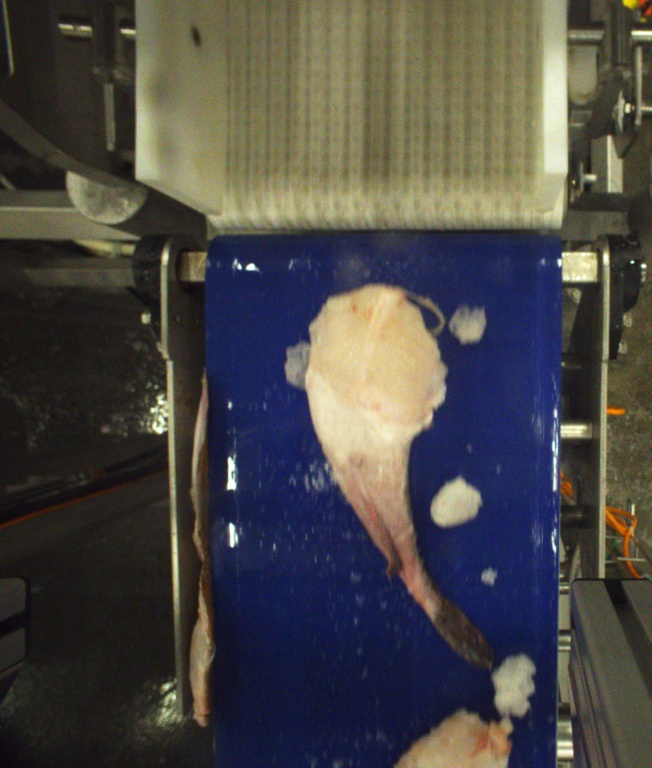ANF: (387, 706, 515, 768)
